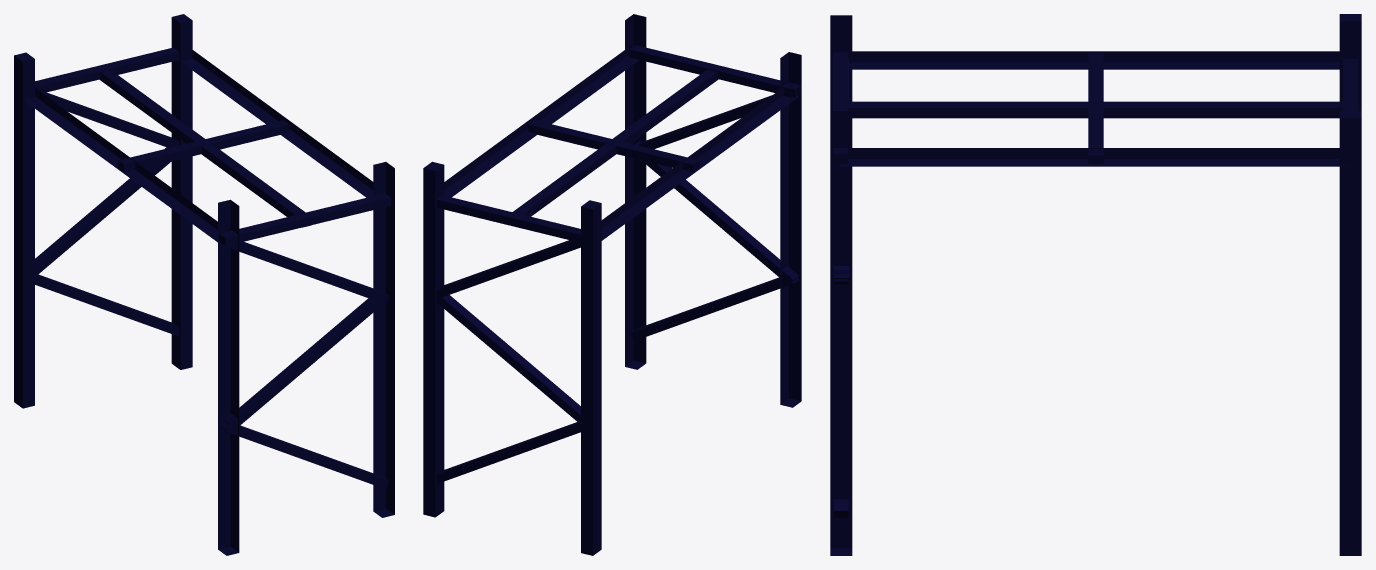
Rendered from shelfeton.obj.
The picture shows the model from 3 angles, left to right: view 1: azimuth 30°, elevation 25°; view 2: azimuth 150°, elevation 25°; view 3: azimuth 270°, elevation 25°; orthographic projection. The views are drawn at different scales.
Parts seen in each view (by area): view 1: shelf; view 2: shelf; view 3: shelf.
Boxes of the visible parts, x1=… form: shelf: x1=14, y1=14, x2=394, y2=555; shelf: x1=423, y1=14, x2=801, y2=555; shelf: x1=830, y1=14, x2=1361, y2=555.
Size of the model in its own units: 1.03 by 2 by 2.2.
